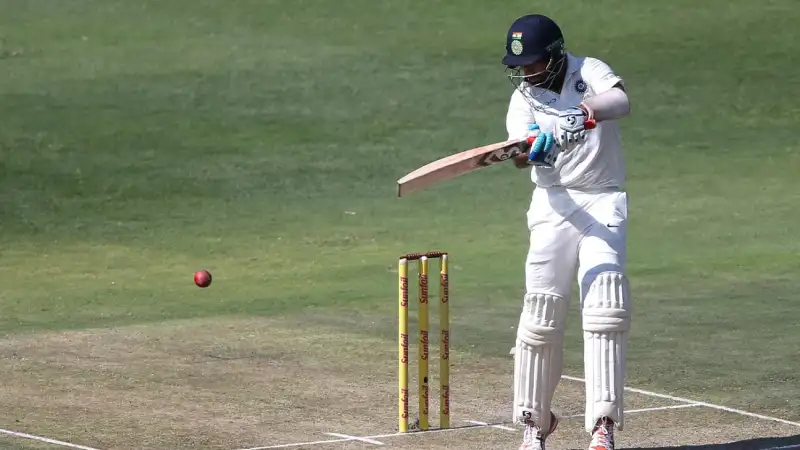Cutshot: (337, 5, 702, 450)
